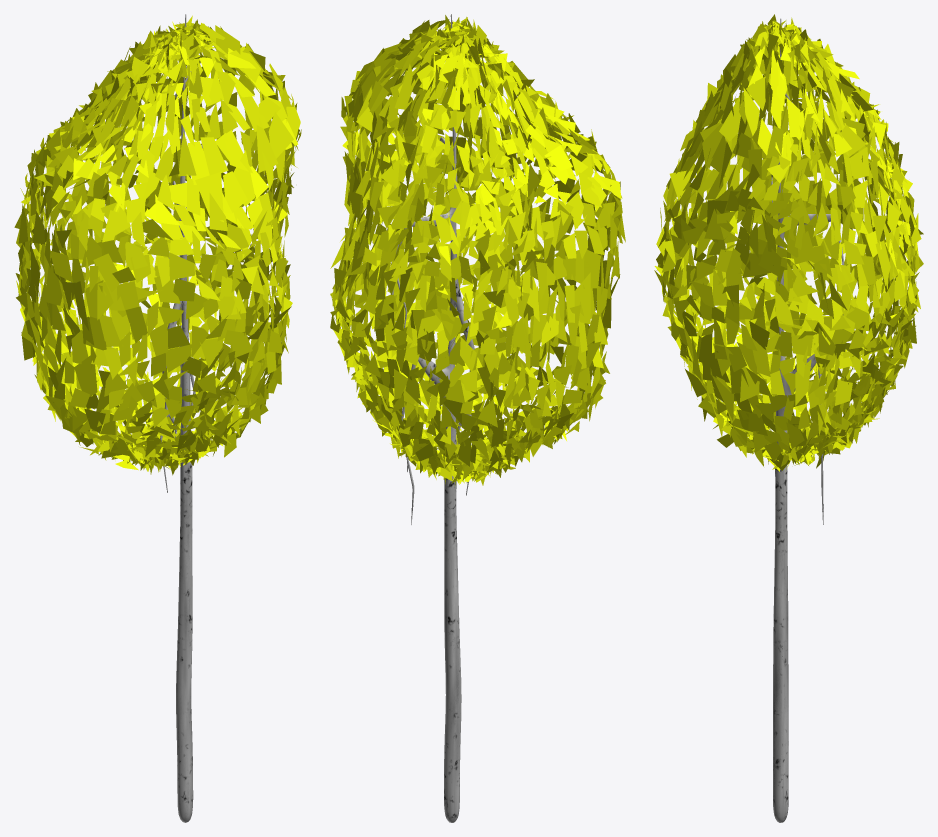
File: Leaves42.002.fbx
3 views of the same model, side by side, from view 1: azimuth 30°, elevation 25°; view 2: azimuth 150°, elevation 25°; view 3: azimuth 270°, elevation 25° (orthographic).
Visible parts, largest first — view 1: Leaves42.002; view 2: Leaves42.002; view 3: Leaves42.002.
Boxes of the visible parts, <box> form: Leaves42.002: <box>14,14,301,822</box>; Leaves42.002: <box>330,14,625,822</box>; Leaves42.002: <box>654,14,923,822</box>.
Size of the model in its own units: 873 by 2574 by 783.
Materials: 2 (1 with a texture image).
